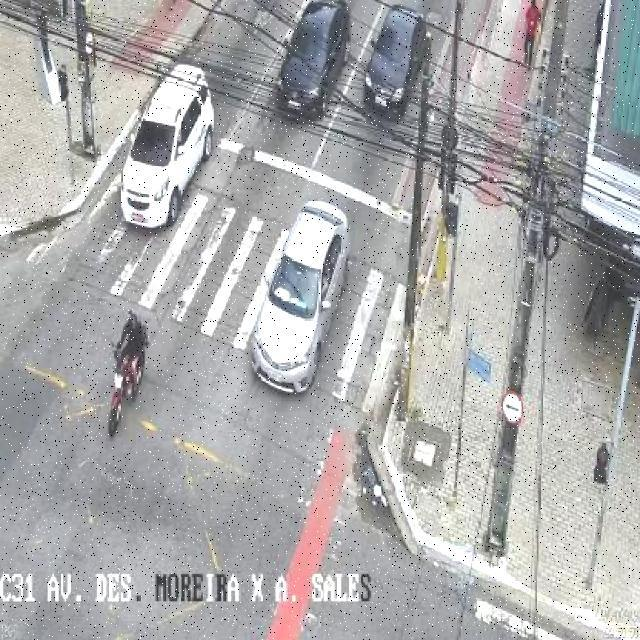Car: (243, 192, 359, 391), (105, 61, 228, 230), (263, 0, 355, 128), (346, 0, 430, 122)
Cycle: (89, 307, 168, 433)
